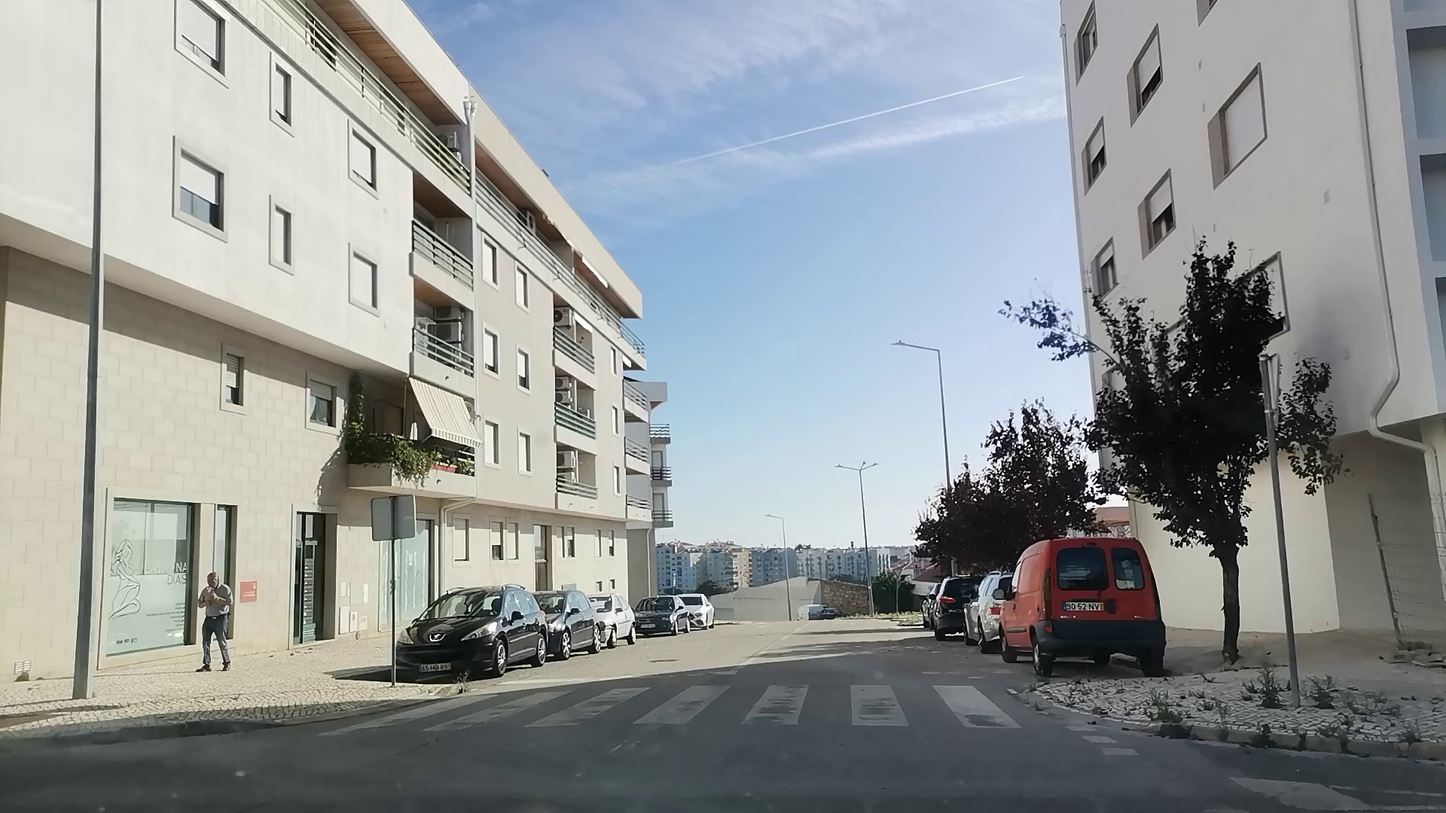Stairs: (405, 685, 1032, 743)
